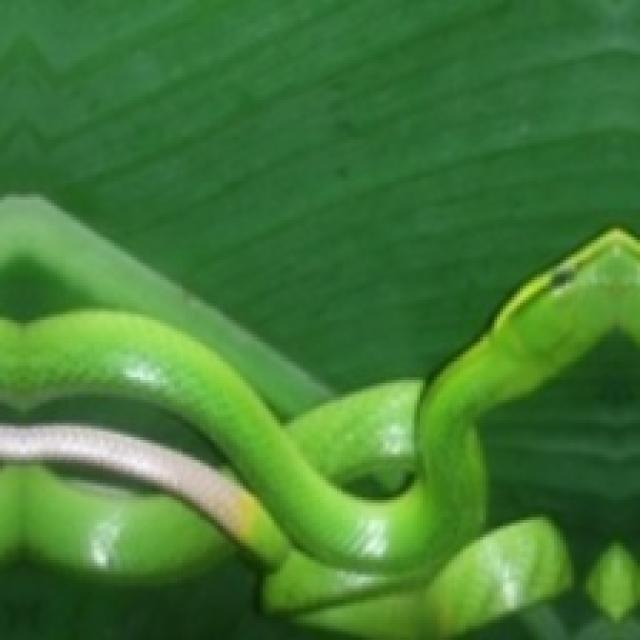red-tailed green ratsnake: (0, 197, 637, 637)
